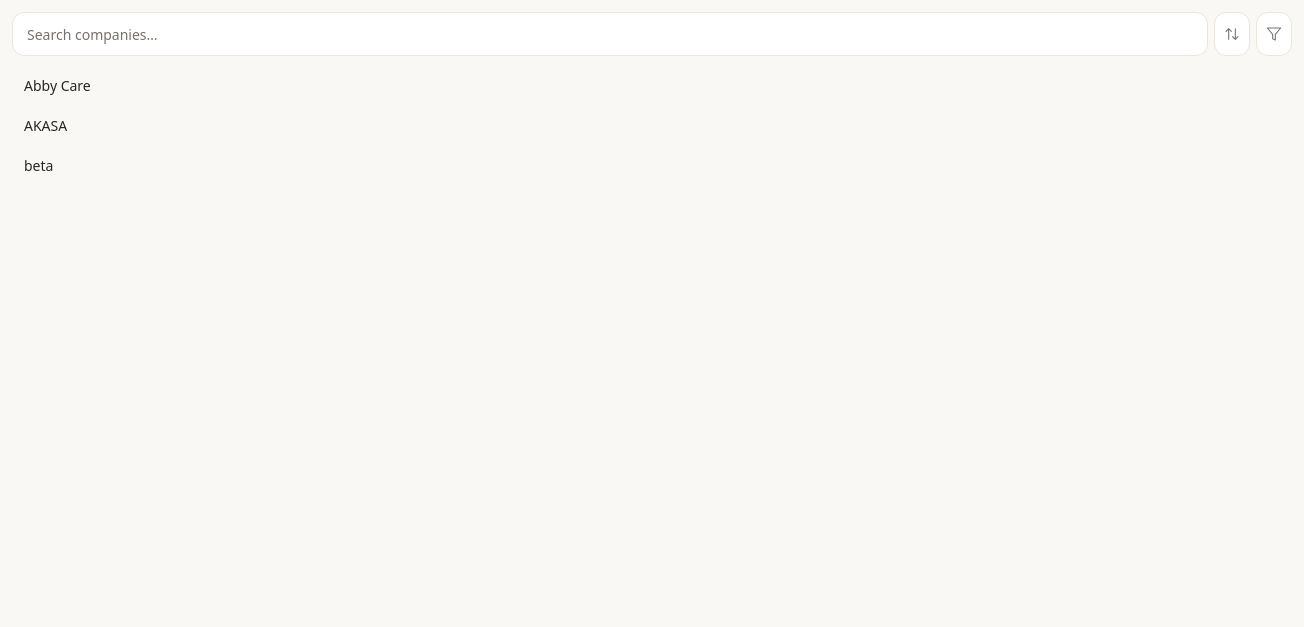
Test: CompaniesSidebar menus, focus, and ARIA › switching buttons leaves exactly one menu open (Req 1.11)
The image size is (1304, 627).
Click the button named "Sort companies" at (1232, 34), box [1214,12,1250,56]
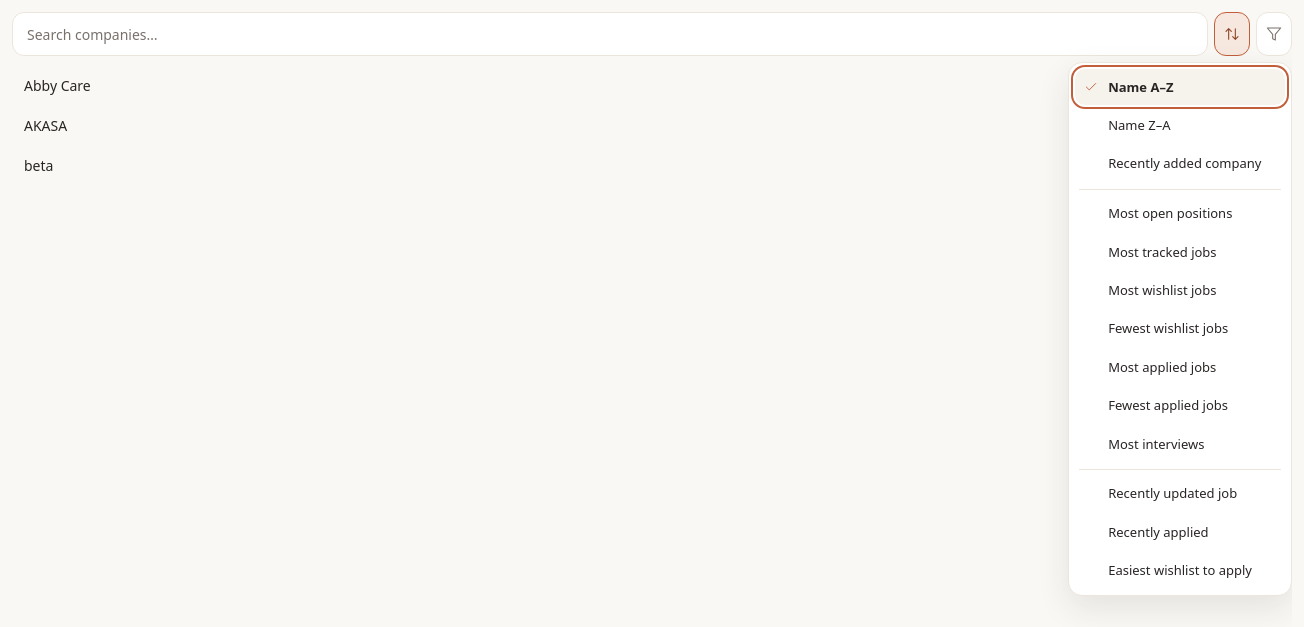
Click the button named "Filter companies" at (1274, 34), box [1256,12,1292,56]
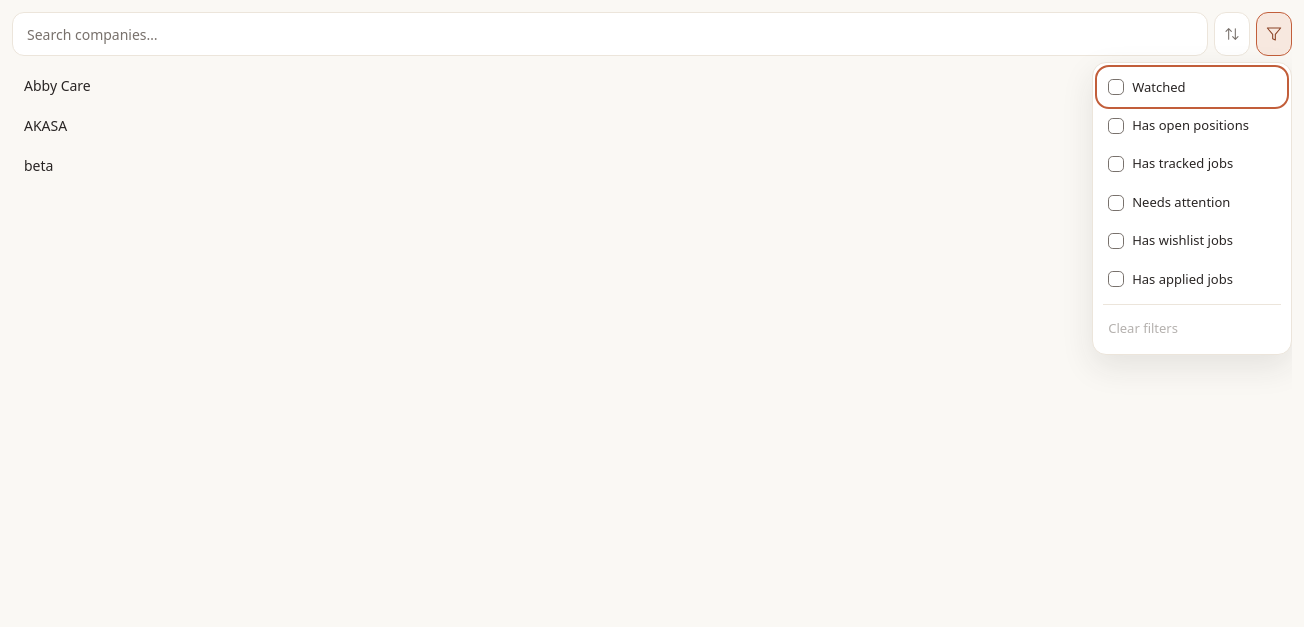
Check: the menu named "Filter companies" is shown, box [1092,62,1292,354]
Click the button named "Sort companies" at (1232, 34), box [1214,12,1250,56]
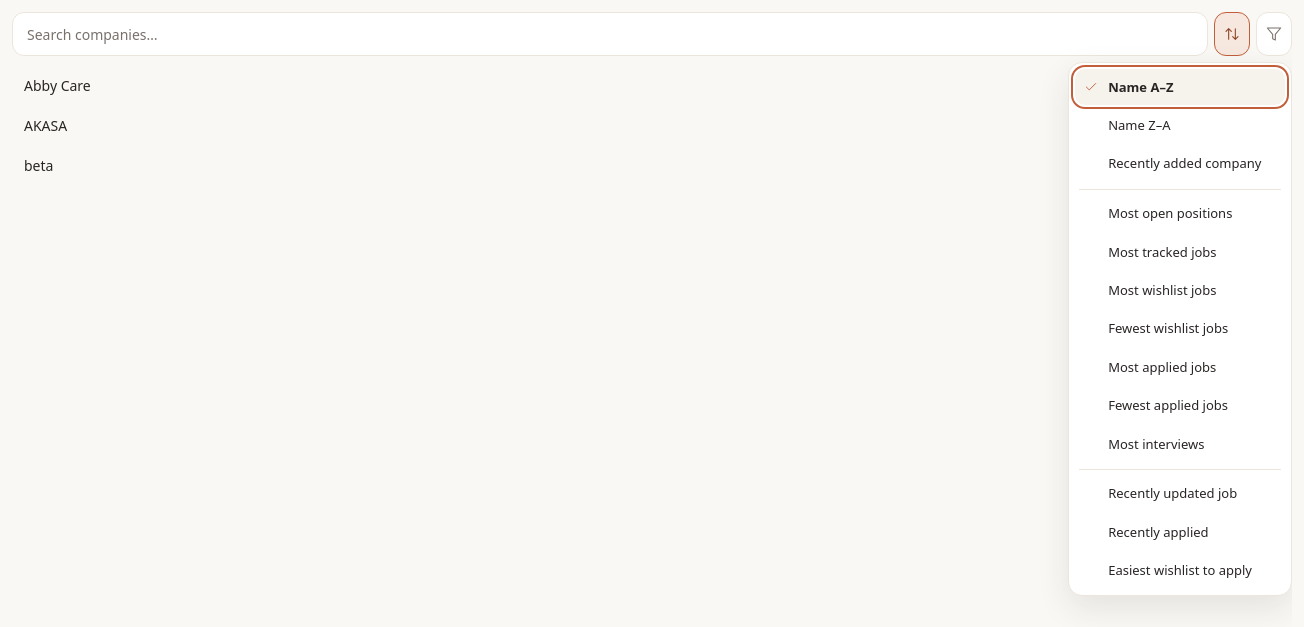
Check: the number of menus is 1, box [1068,62,1292,596]
